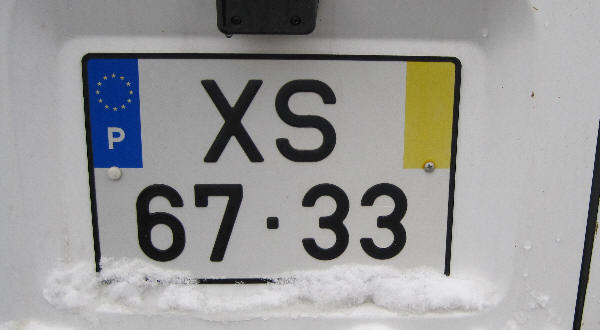license_plate: (82, 51, 458, 286)
